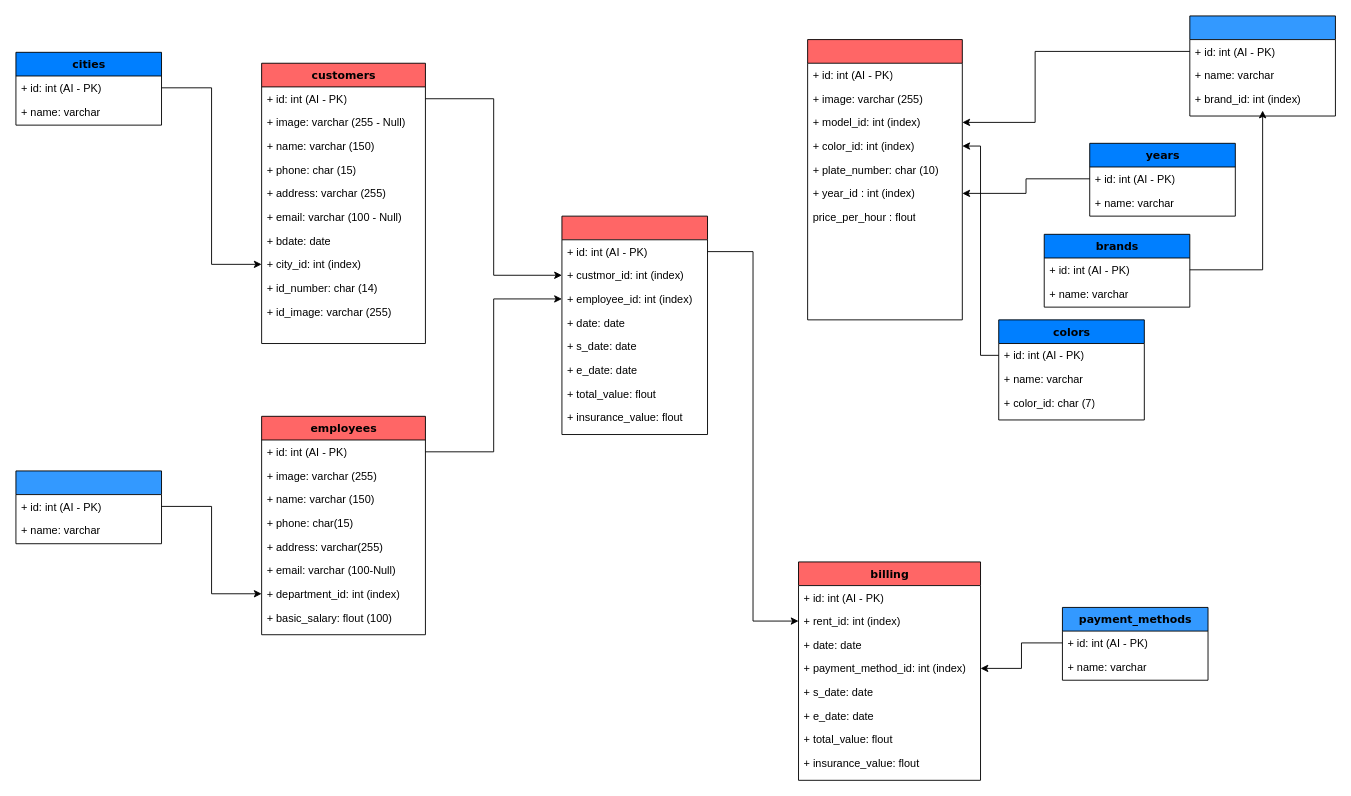
This 1351x796 diagram has some shape labels left out. Each missing label, with the box of its shape:
cars: (807, 39, 962, 320)
department: (15, 470, 162, 544)
models: (1189, 15, 1335, 116)
rents: (561, 215, 708, 435)
